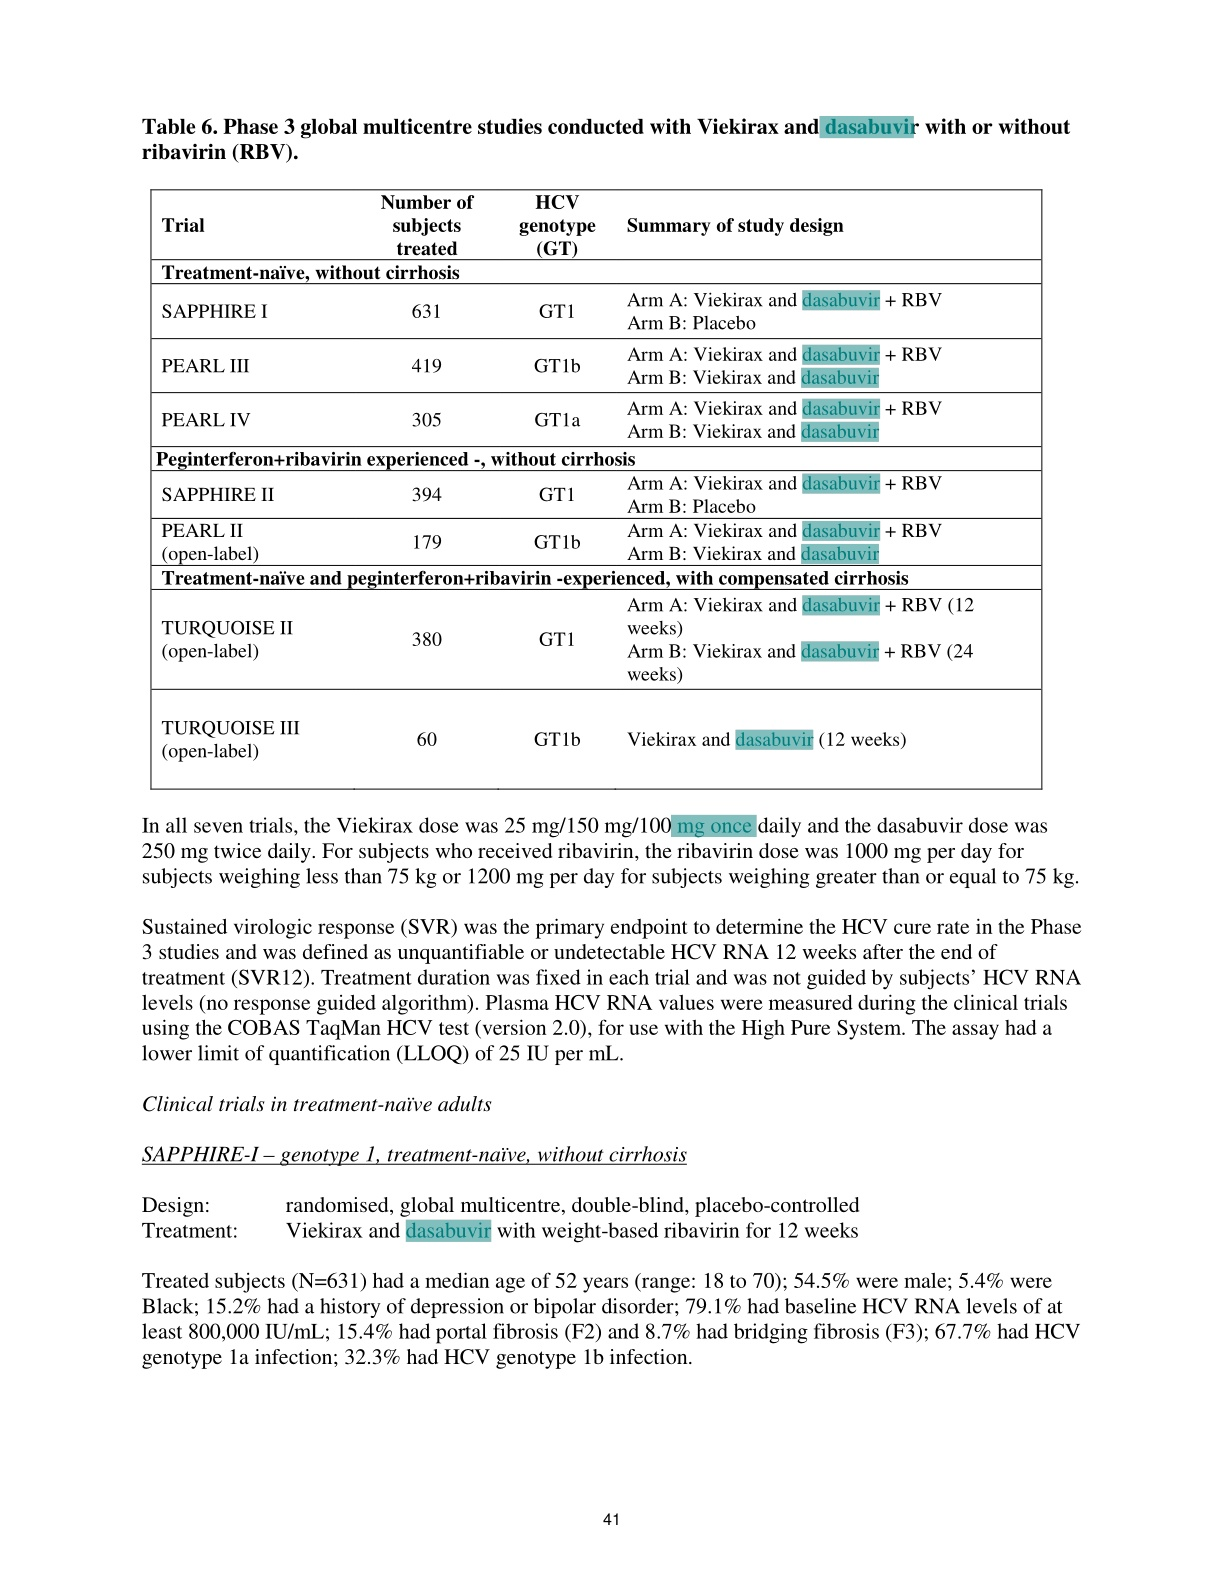partial_lined_merged_cells: (148, 188, 1045, 792)
